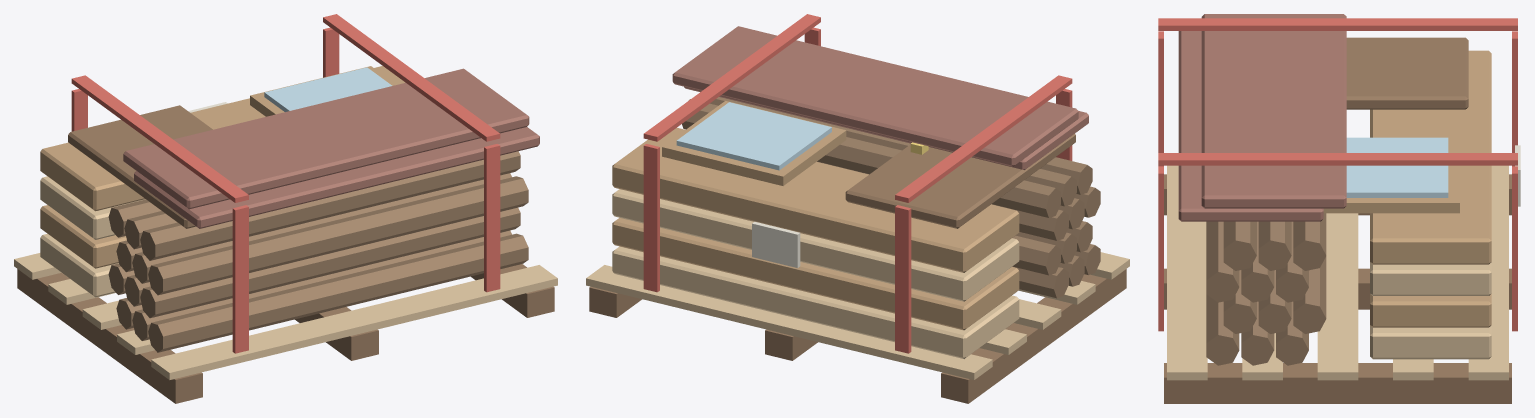
File: CabinKit.fbx
The picture shows the model from 3 angles, left to right: view 1: azimuth 30°, elevation 25°; view 2: azimuth 150°, elevation 25°; view 3: azimuth 270°, elevation 25°; orthographic projection. The views are drawn at different scales.
Parts seen in each view (by area): view 1: CabinKit_Mesh; view 2: CabinKit_Mesh; view 3: CabinKit_Mesh.
Boxes of the visible parts, x1=… form: CabinKit_Mesh: x1=14, y1=14, x2=557, y2=403; CabinKit_Mesh: x1=586, y1=14, x2=1129, y2=403; CabinKit_Mesh: x1=1158, y1=14, x2=1520, y2=403.
Size of the model in its own units: 1.7 by 0.81 by 1.25.
